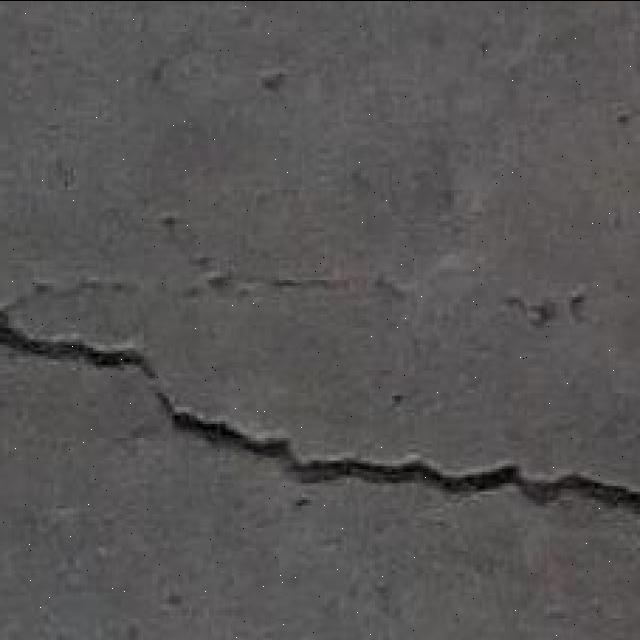crack: (0, 304, 638, 515), (4, 258, 619, 338), (3, 305, 157, 369), (154, 389, 300, 456), (188, 267, 380, 297), (23, 273, 143, 305)
